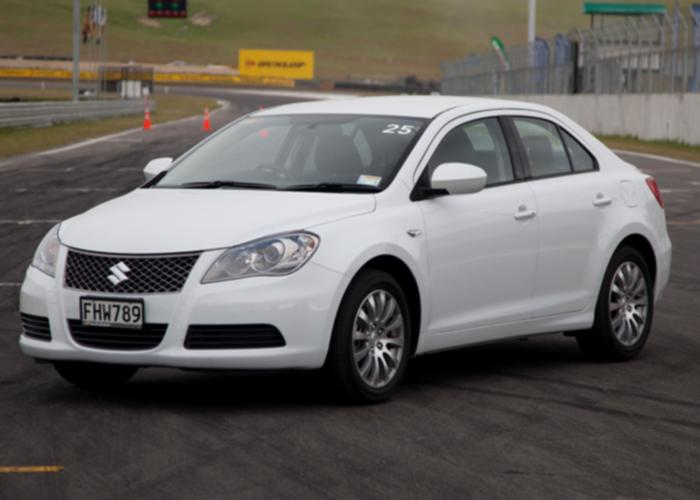suzuki: (105, 257, 135, 291)
